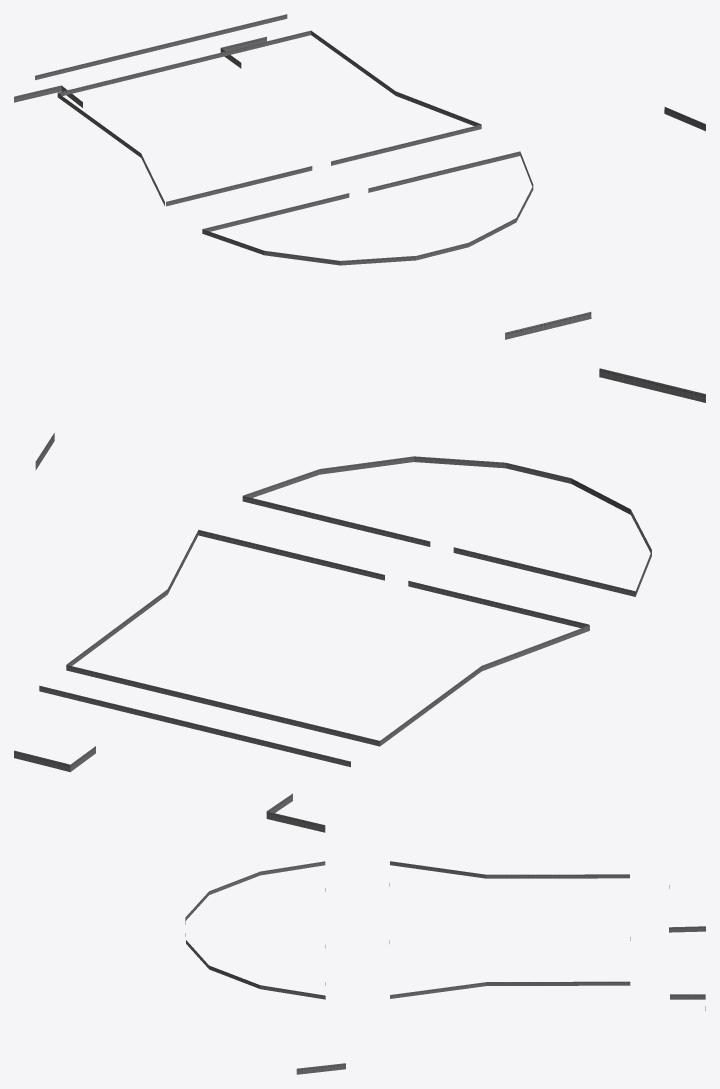
The model's file is mallglass_law.obj.
3 renders of one model, top to bottom at view 1: azimuth 30°, elevation 25°; view 2: azimuth 150°, elevation 25°; view 3: azimuth 270°, elevation 25°, orthographic. The views are drawn at different scales.
Visible parts, largest first — view 1: mallglass_laW; view 2: mallglass_laW; view 3: mallglass_laW.
Part boxes in pixels (left/top/right/bottom): mallglass_laW: left=14, top=14, right=705, bottom=339; mallglass_laW: left=14, top=368, right=705, bottom=832; mallglass_laW: left=185, top=861, right=705, bottom=1074.
Bounding box in the file's own units: 103 × 8.83 × 146.
